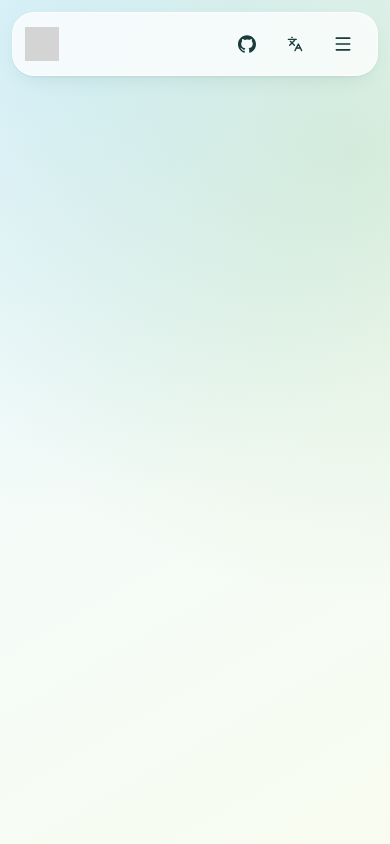
Test: Forest Healing design system › opens the mobile navigation sheet
This screenshot has width=390, height=844.
Step 1. Click the button named "打开导航菜单" → point(343, 44), box left=321, top=22, right=365, bottom=66
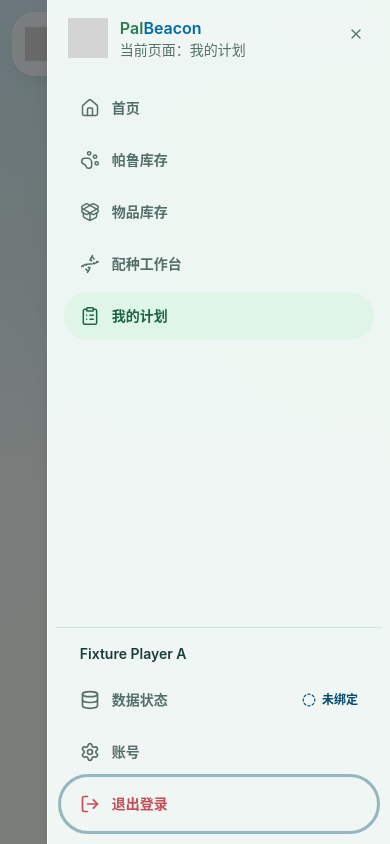
Now the link "我的计划" is shown, box left=64, top=292, right=374, bottom=340
Now the text "当前页面：我的计划" is shown, box left=120, top=40, right=246, bottom=60
